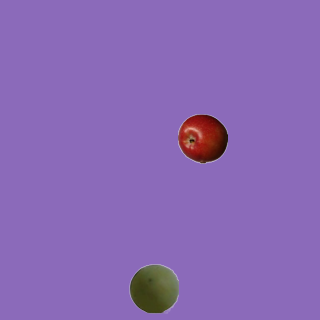Apple Braeburn: (177, 113, 227, 163)
Grape White 4: (128, 263, 178, 313)
